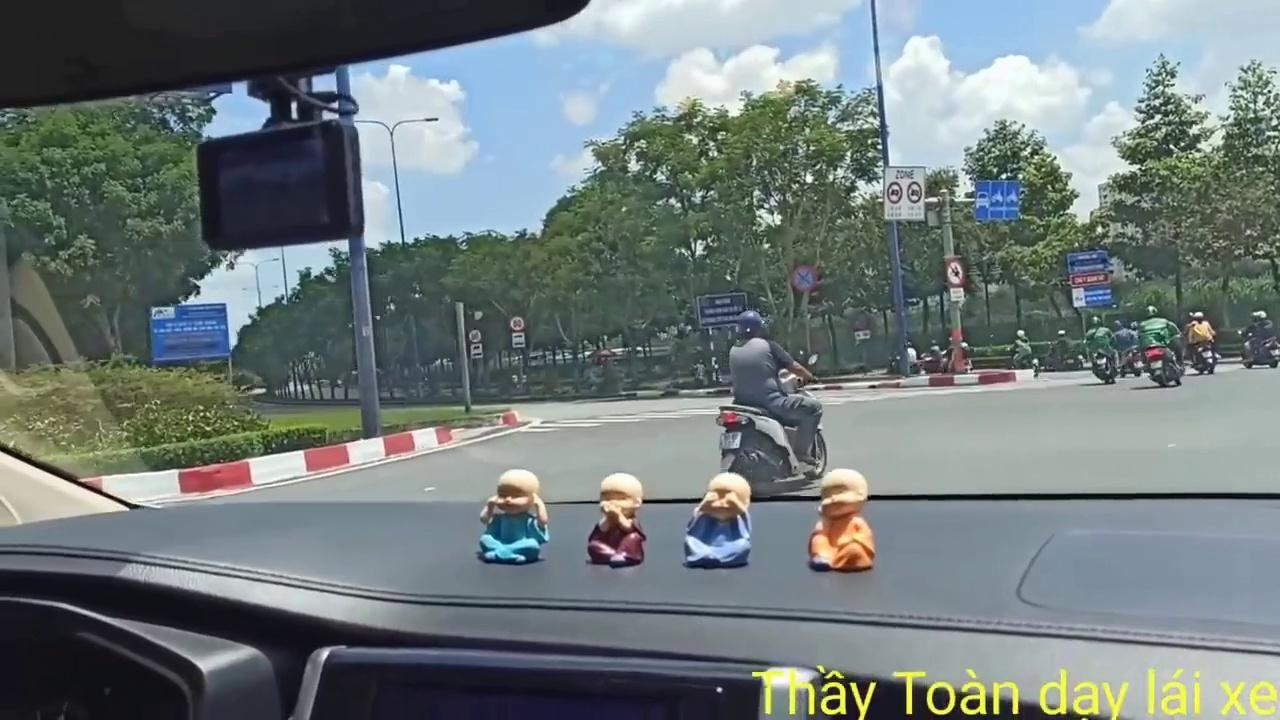Biển phụ: (511, 333, 526, 347), (471, 343, 484, 358)
Cấm cac phương tiện hoạt động trong khung giờ cố định: (884, 164, 927, 223)
Cấm dừng - Cấm đỗ: (790, 262, 817, 292)
Cấm xe máy: (945, 258, 966, 286)
GIơi hạn tốc độ 60Km/h: (468, 327, 482, 343)
Giới hạn tốc độ 80Km/h: (510, 314, 526, 331)
Khác: (149, 301, 231, 360), (1067, 248, 1115, 308)
Làn đường cho từng xe: (975, 178, 1018, 222)
